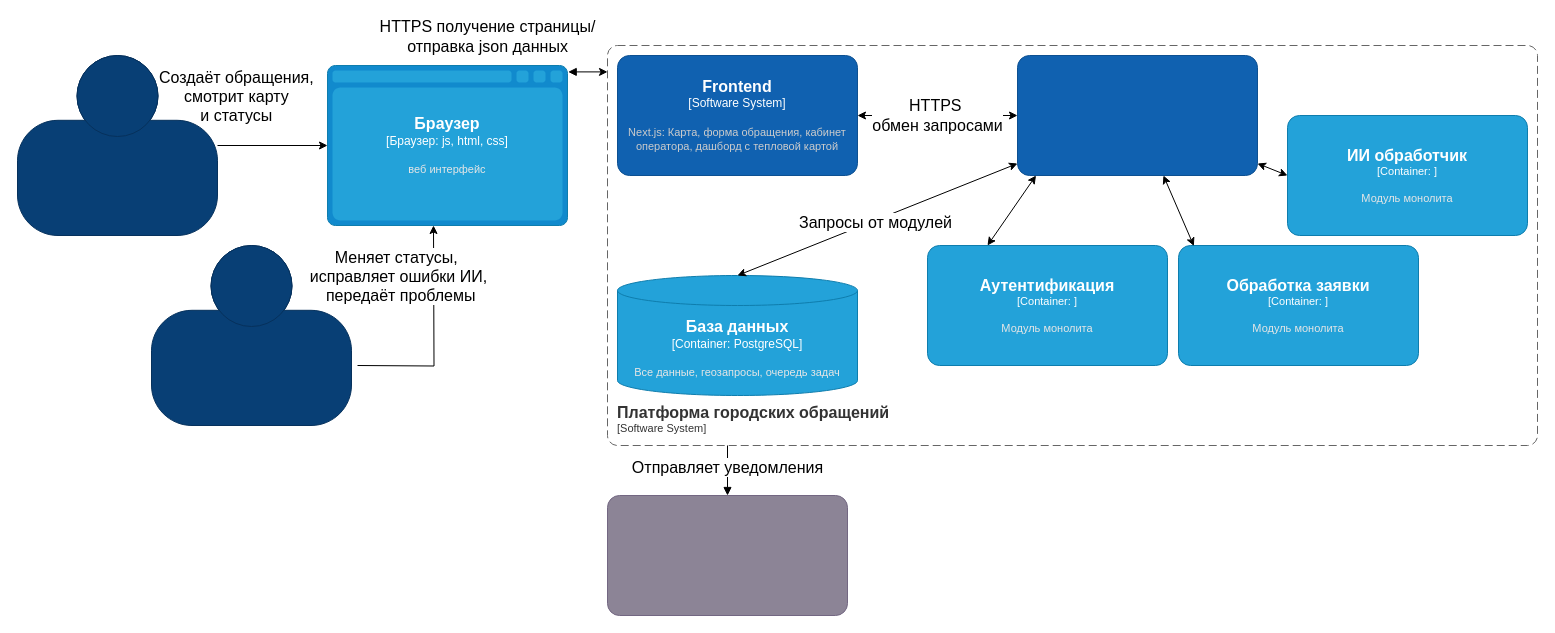
Image size: 1555x633. Some labels were removed from this diagram. Here are the shapes that lost their labels. From the top down, the centre of each, then its label:
(x=1137, y=115): Backend (API) [Express.js] модульный монолит
(x=117, y=145): Пользователь [Person]
(x=251, y=335): Администратор [Person]
(x=727, y=555): Почтовый сервер [Внешняя система]
